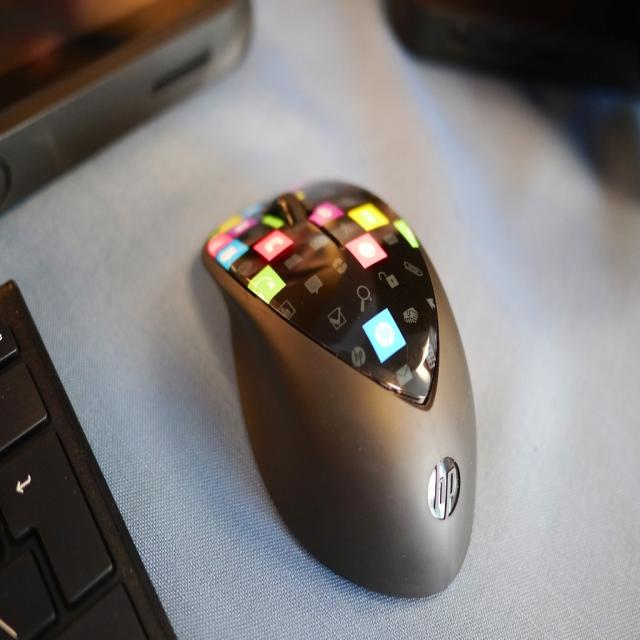Computer-mouse: (204, 171, 476, 598)
